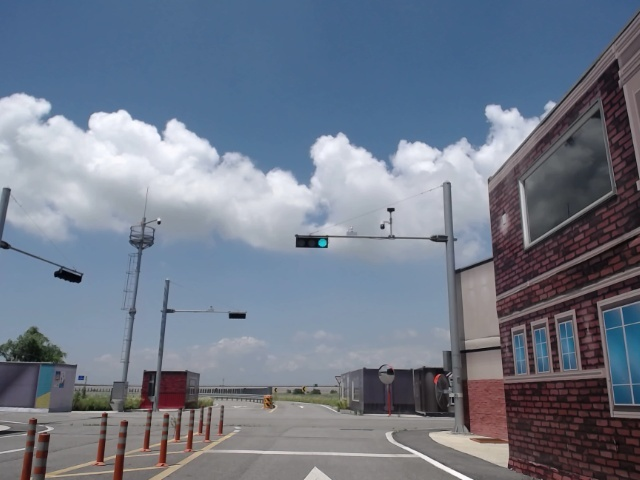green_3: (297, 237, 328, 247)
